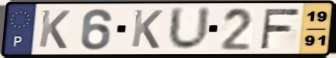2: (218, 6, 256, 52)
6: (79, 7, 114, 52)
F: (258, 7, 302, 51)
K: (37, 8, 73, 51), (130, 8, 165, 50)
U: (167, 5, 213, 53)
